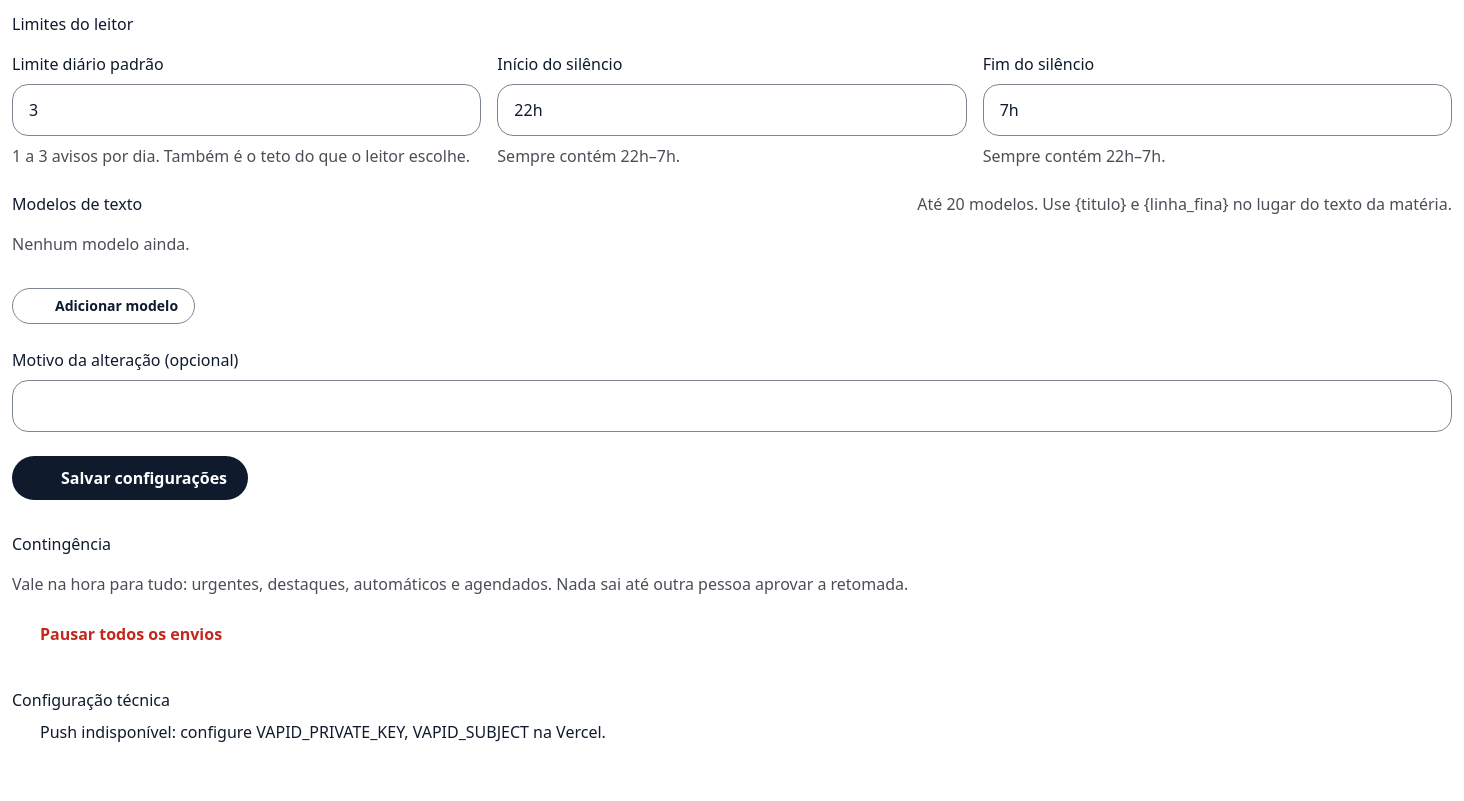
Test case: PushSettingsForm (spec §10.5) › silêncio só oferece 18–22h e 7–10h com a nota; VAPID só nomes; salvar envia os valores
Expected: the text "Sempre contém 22h–7h." is shown 2 times, [497,145,680,167]; [983,145,1166,167]
Expected: the text "Push indisponível: configure VAPID_PRIVATE_KEY, VAPID_SUBJECT na Vercel." is shown, [12,721,606,743]
Select "2" in the dropdown labelled "Limite diário padrão" at (247, 110), box [12,84,481,136]
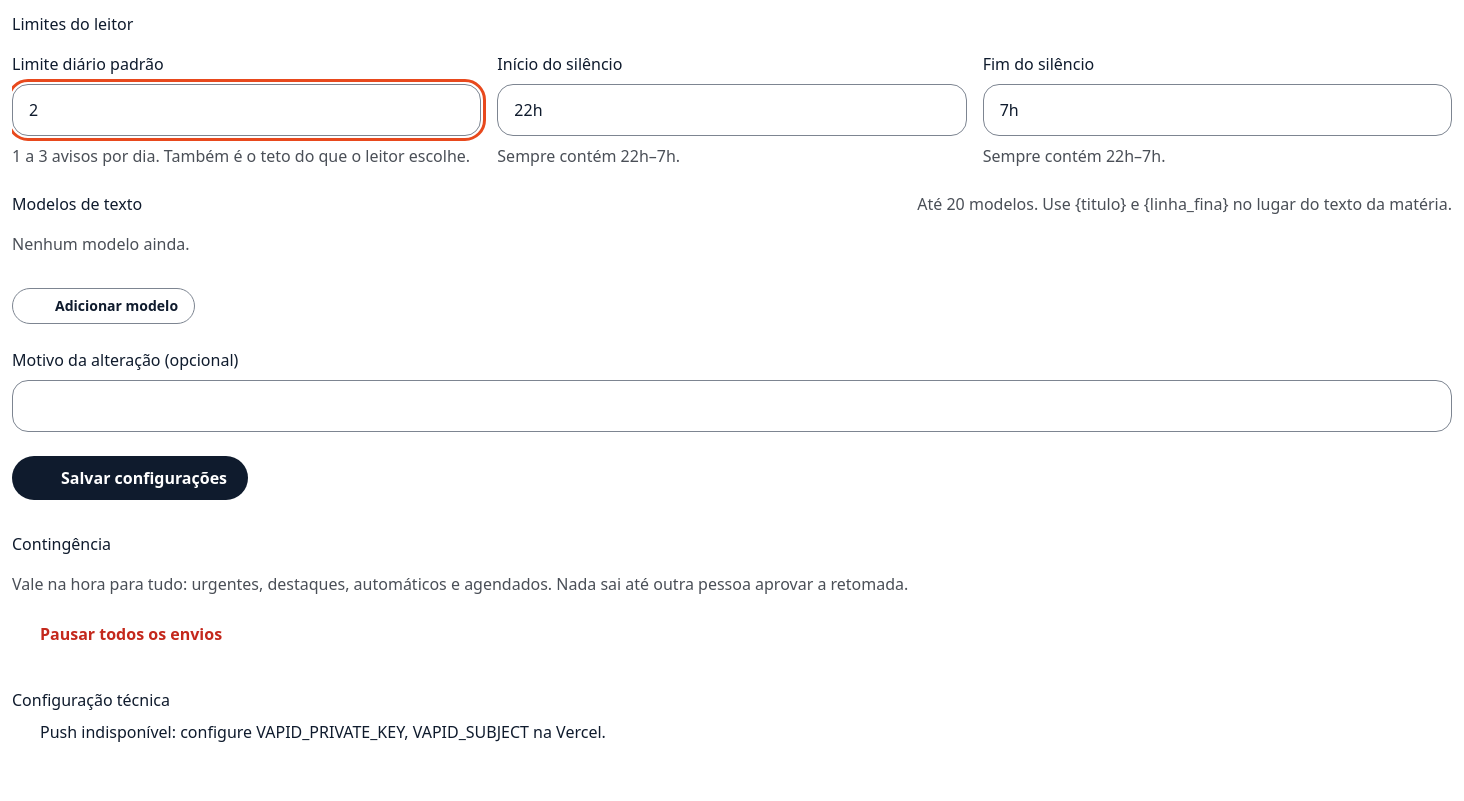
Click the button "Adicionar modelo".
click(104, 306)  # box [12,288,195,324]
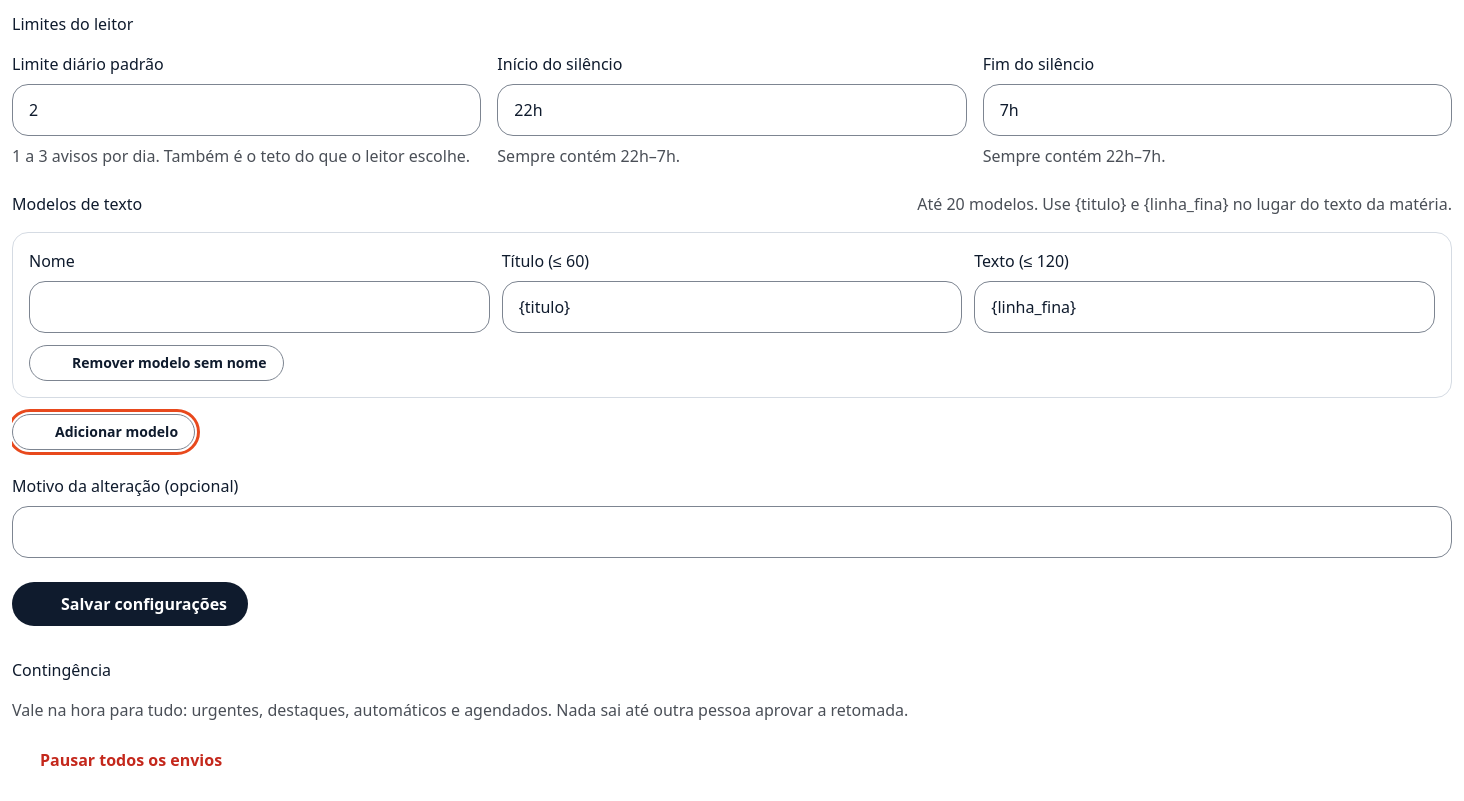
Type "Padrão" into the field labelled "Nome".
click(259, 307); type("Padrão")  # box [29,281,490,333]
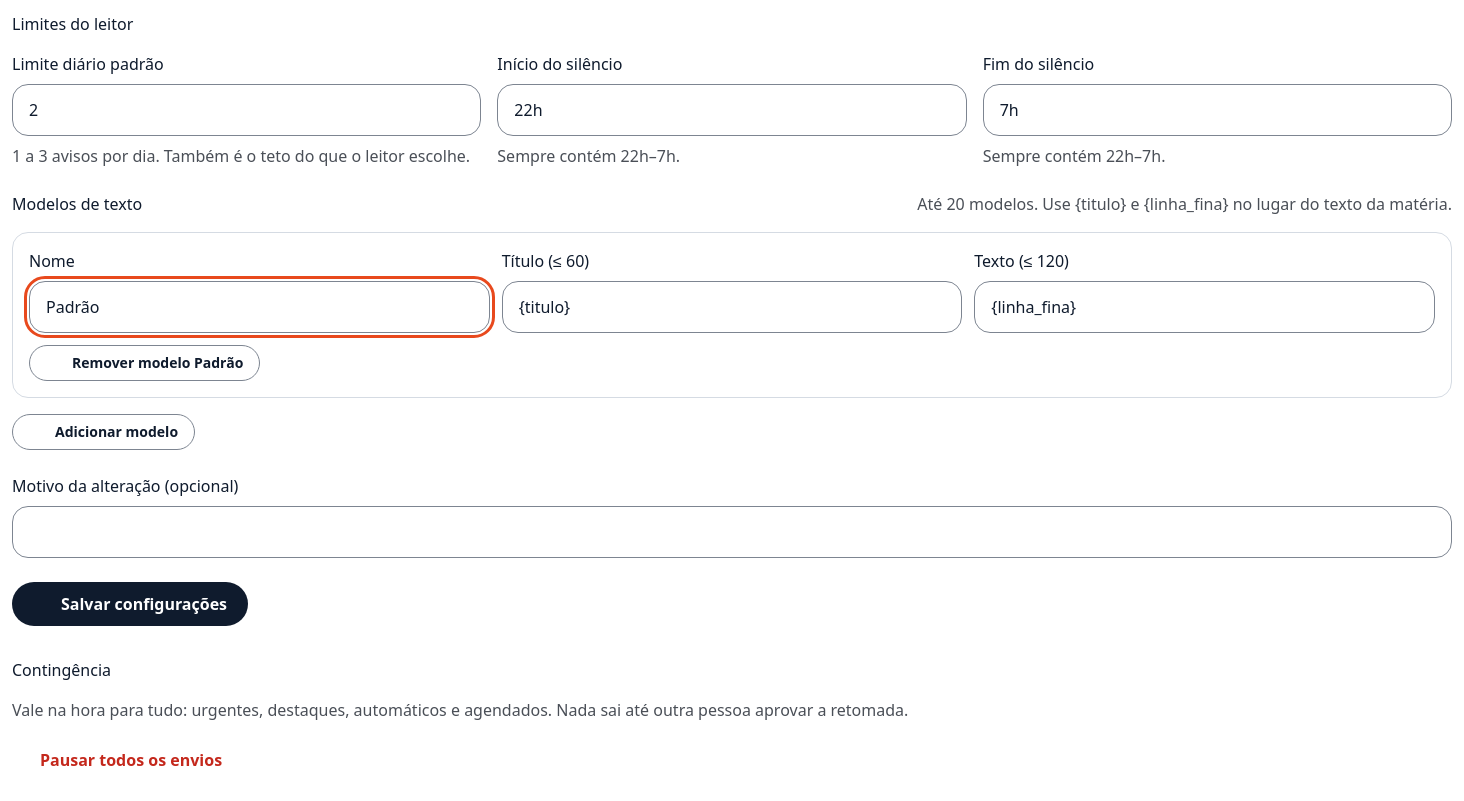
Click the button "Salvar configurações".
click(130, 604)  # box [12,582,248,626]
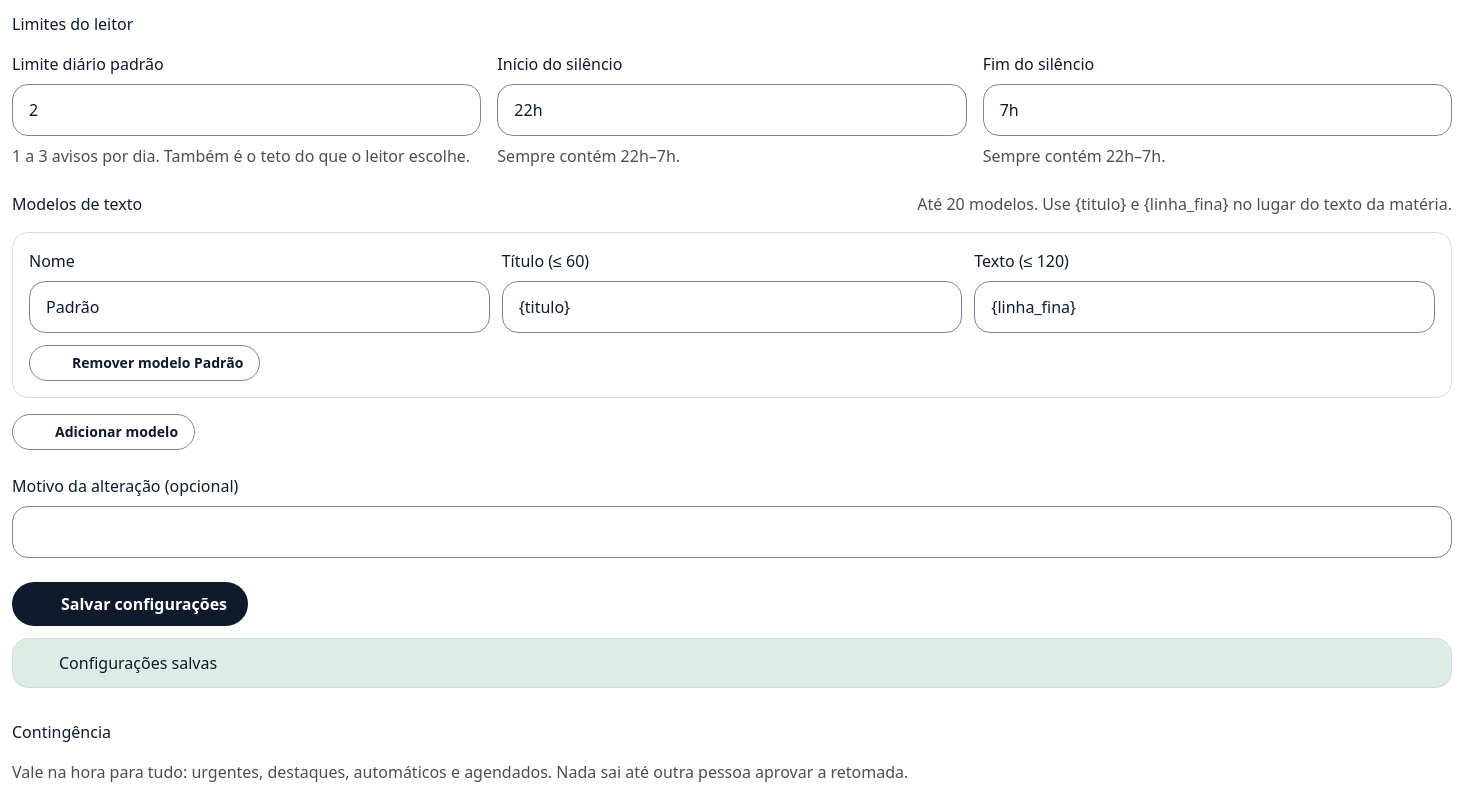
Now the message reads "Configurações salvas", box [59,652,217,674]
